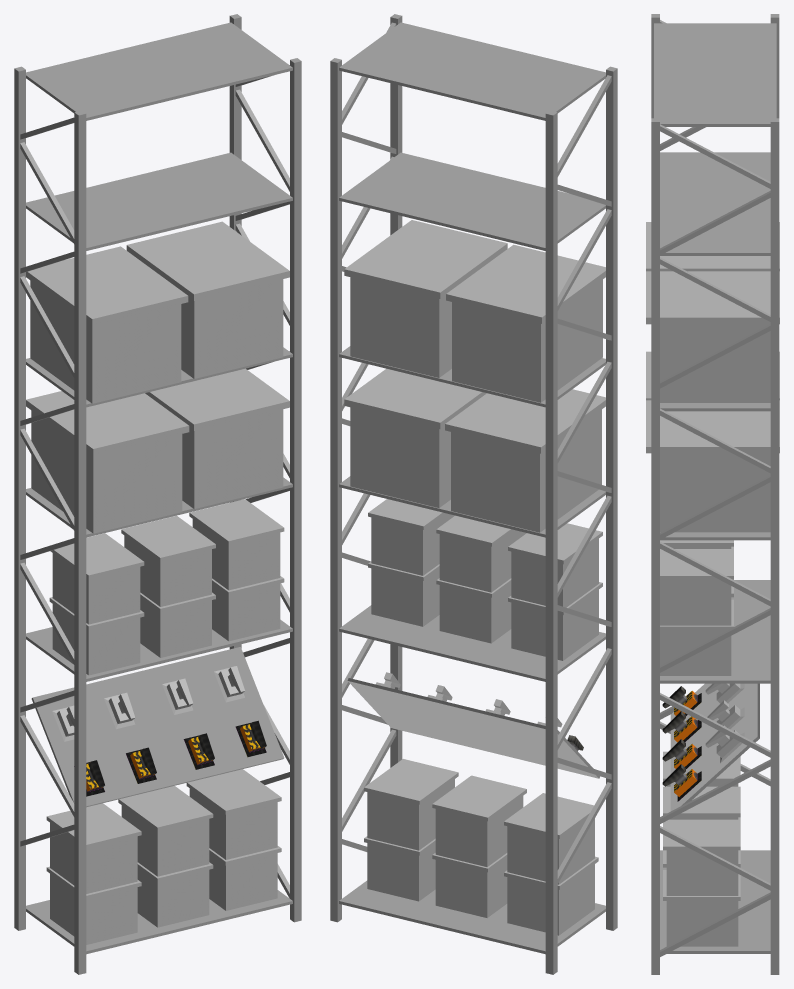
File: sanderDisplay.fbx
3 views of the same model, side by side, from view 1: azimuth 30°, elevation 25°; view 2: azimuth 150°, elevation 25°; view 3: azimuth 270°, elevation 25° (orthographic).
Visible parts, largest first — view 1: Industrial_Rack4, StorageBox42, StorageBox43, StorageBox41, StorageBox40, StorageBox32, StorageBox37, StorageBox39, StorageBox33, StorageBox38, StorageBox31, StorageBox28 (+11 smaller); view 2: Industrial_Rack4, StorageBox42, StorageBox43, StorageBox41, StorageBox40, StorageBox32, StorageBox33, StorageBox31, StorageBox38, StorageBox37, StorageBox39, StorageBox28 (+5 smaller); view 3: Industrial_Rack4, StorageBox41, StorageBox40, StorageBox33, StorageBox39, StorageBox30, StorageBox36, StorageBox42, StorageBox32, Sander_Orange_03, Sander_Orange_02, Sander_Orange_04 (+7 smaller).
Boxes of the visible parts, bbox=[...] form: Industrial_Rack4: bbox=[14, 14, 301, 974]; StorageBox42: bbox=[26, 246, 188, 403]; StorageBox43: bbox=[26, 391, 189, 533]; StorageBox41: bbox=[126, 221, 289, 378]; StorageBox40: bbox=[145, 368, 289, 508]; StorageBox32: bbox=[118, 786, 213, 876]; StorageBox37: bbox=[121, 515, 215, 606]; StorageBox39: bbox=[189, 499, 284, 590]; StorageBox33: bbox=[186, 769, 281, 859]; StorageBox38: bbox=[50, 533, 144, 624]; StorageBox31: bbox=[46, 803, 141, 893]; StorageBox28: bbox=[46, 866, 141, 944]; Industrial_Rack4: bbox=[330, 14, 617, 974]; StorageBox42: bbox=[446, 244, 605, 402]; StorageBox43: bbox=[445, 389, 605, 532]; StorageBox41: bbox=[344, 220, 507, 377]; StorageBox40: bbox=[344, 368, 486, 507]; StorageBox32: bbox=[432, 775, 526, 866]; StorageBox33: bbox=[364, 759, 458, 850]; StorageBox31: bbox=[504, 793, 594, 884]; StorageBox38: bbox=[508, 523, 602, 607]; StorageBox37: bbox=[436, 515, 526, 592]; StorageBox39: bbox=[368, 499, 454, 575]; StorageBox28: bbox=[504, 856, 598, 935]; Industrial_Rack4: bbox=[651, 14, 779, 974]; StorageBox41: bbox=[646, 271, 779, 402]; StorageBox40: bbox=[646, 400, 779, 532]; StorageBox33: bbox=[663, 819, 740, 895]; StorageBox39: bbox=[660, 549, 733, 625]; StorageBox30: bbox=[663, 870, 740, 946]; StorageBox36: bbox=[660, 599, 733, 675]; StorageBox42: bbox=[646, 222, 779, 271]; StorageBox32: bbox=[663, 786, 740, 819]; Sander_Orange_03: bbox=[662, 764, 701, 801]; Sander_Orange_02: bbox=[662, 711, 701, 742]; Sander_Orange_04: bbox=[662, 739, 701, 768].
Size of the model in its own units: 2 by 7.37 by 1.05.
